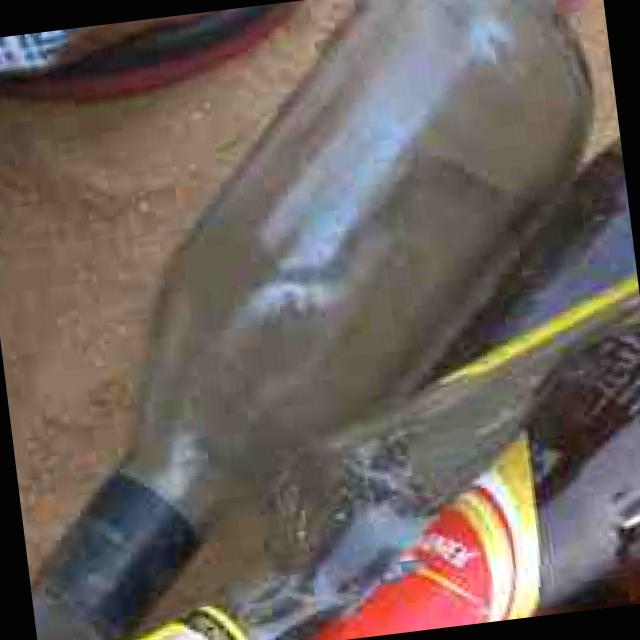chai_thuy_tinh: (33, 0, 584, 640), (173, 85, 640, 640)
